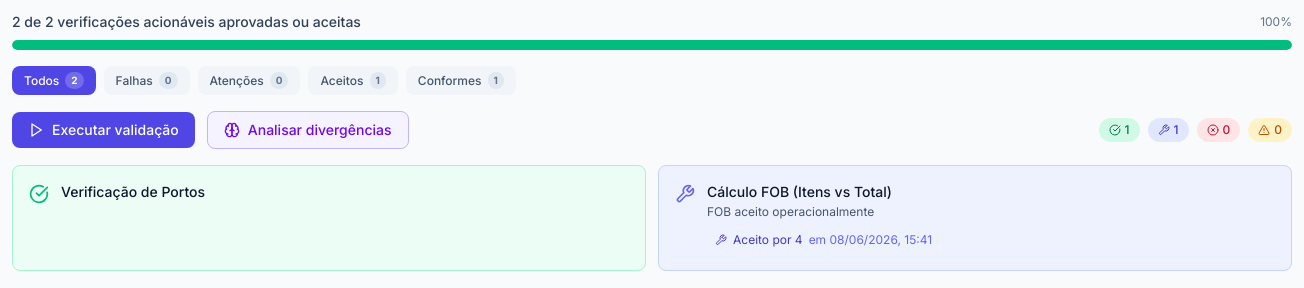
ValidationChecklist › separates accepted failures from open failures and correction actions
Expected: the button with aria-label "Aceitos: 1" is shown, top-left (308, 66), bottom-right (398, 95)
Expected: the text "2 de 2 verificações acionáveis aprovadas ou aceitas" is shown, top-left (12, 12), bottom-right (361, 32)
What coordinates should you click on to do the following:
click the button with aria-label "Falhas: 0"
I would click on:
 (147, 81)
Its box is top-left (104, 66), bottom-right (190, 95).
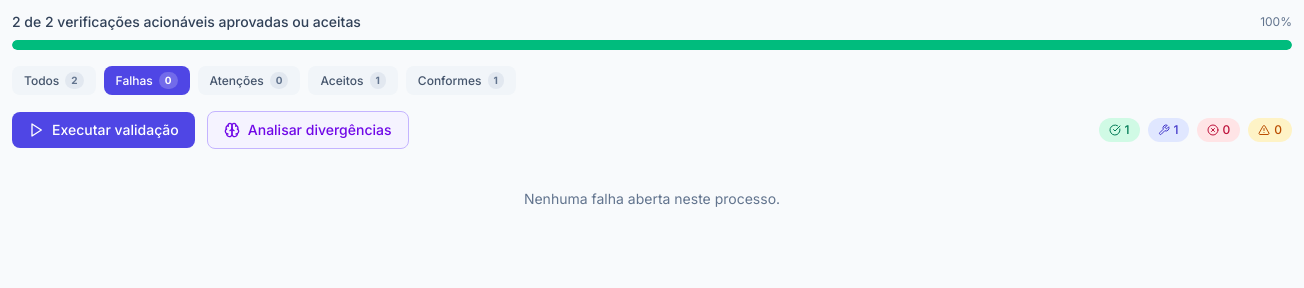
Expected: the text "Nenhuma falha aberta neste processo." is shown, top-left (524, 190), bottom-right (780, 207)
